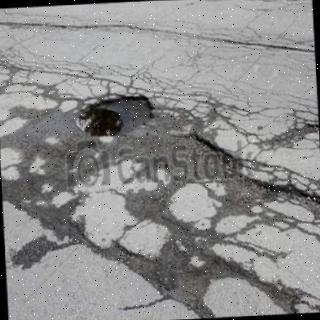pothole: (76, 94, 155, 137)
